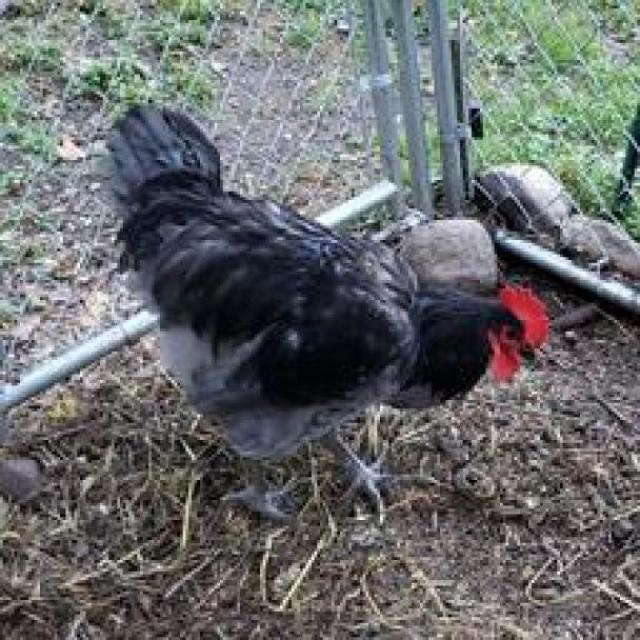Chicken: (103, 93, 584, 562)
